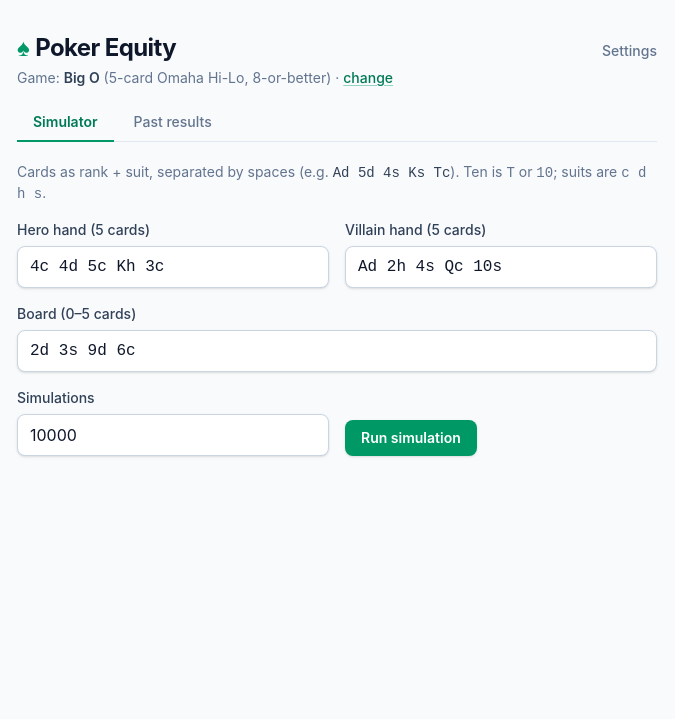
runs a simulation and shows the results breakdown
Replace the text in the number field labelled "Simulations" with "200" at coordinates (173, 435), box [17,414,329,456]
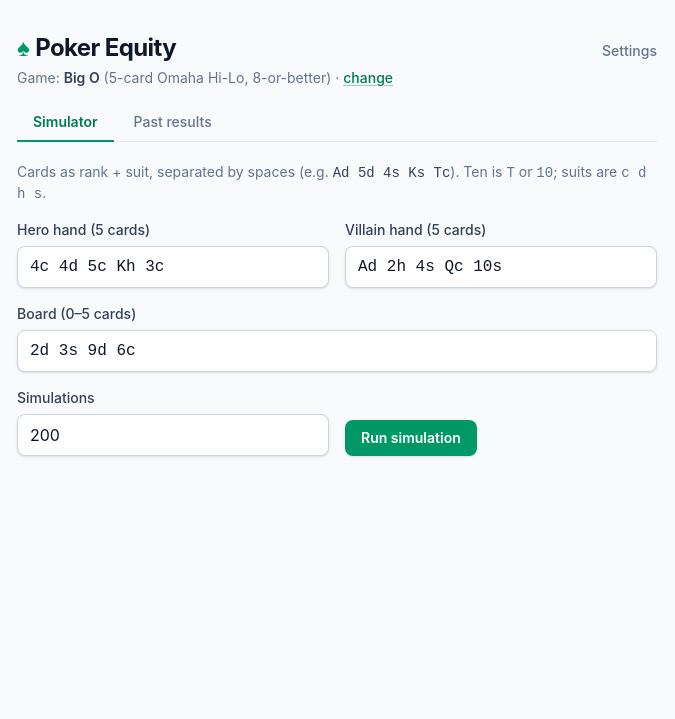
Click the button "Run simulation" at coordinates (411, 438), box [345,420,477,456]
(page scrolled)
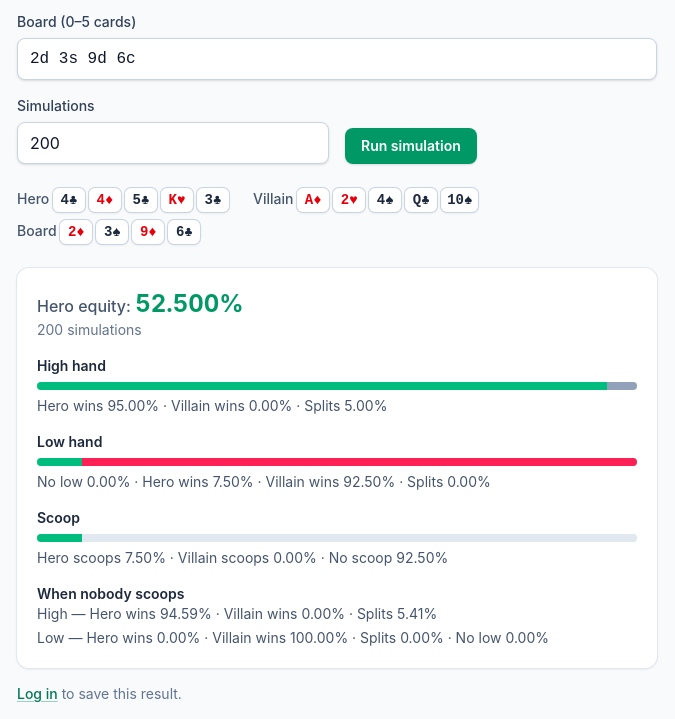
Result: the heading "Hero equity: 52.500%" is shown at [37,289,244,318]
Result: the text "200 simulations" is shown at [37,321,142,338]
Result: the heading "High hand" is shown at [37,357,106,374]
